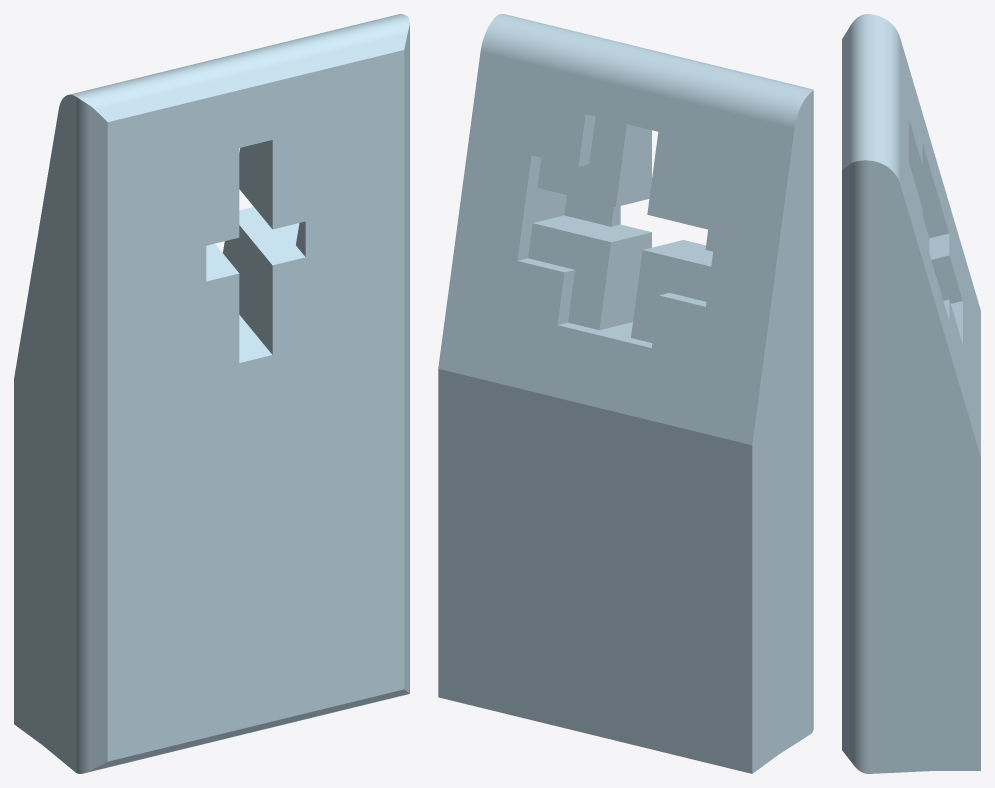
The model's file is NuttSandingSupport.gltf.
The picture shows the model from 3 angles, left to right: view 1: azimuth 30°, elevation 25°; view 2: azimuth 150°, elevation 25°; view 3: azimuth 270°, elevation 25°; orthographic projection. The views are drawn at different scales.
Visible parts, largest first — view 1: ãããååæ²»å·; view 2: ãããååæ²»å·; view 3: ãããååæ²»å·.
Boxes of the visible parts, left/top/right/bottom form: ãããååæ²»å·: left=14, top=14, right=409, bottom=773; ãããååæ²»å·: left=438, top=14, right=813, bottom=773; ãããååæ²»å·: left=842, top=14, right=980, bottom=773.
Size of the model in its own units: 0.05 by 0.0976 by 0.02.
